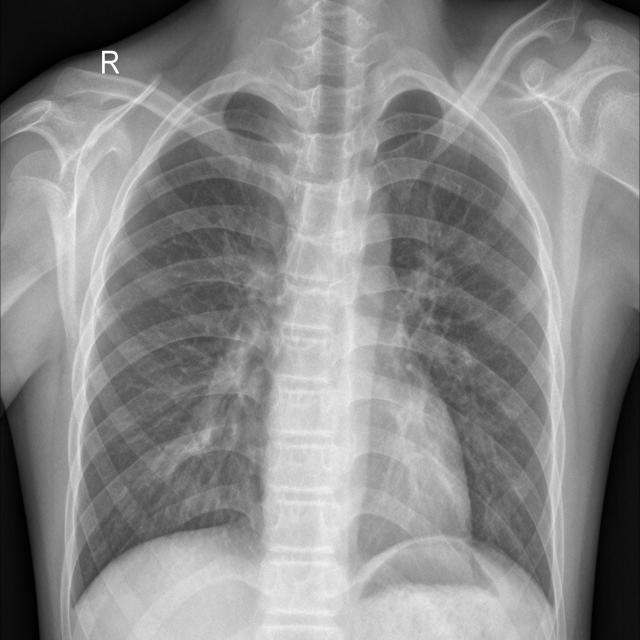no-pneumonia: (74, 92, 298, 598), (374, 90, 555, 600)
